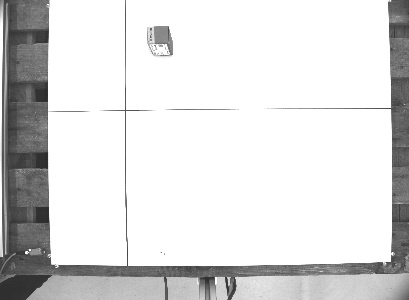b3: (144, 23, 175, 58)
